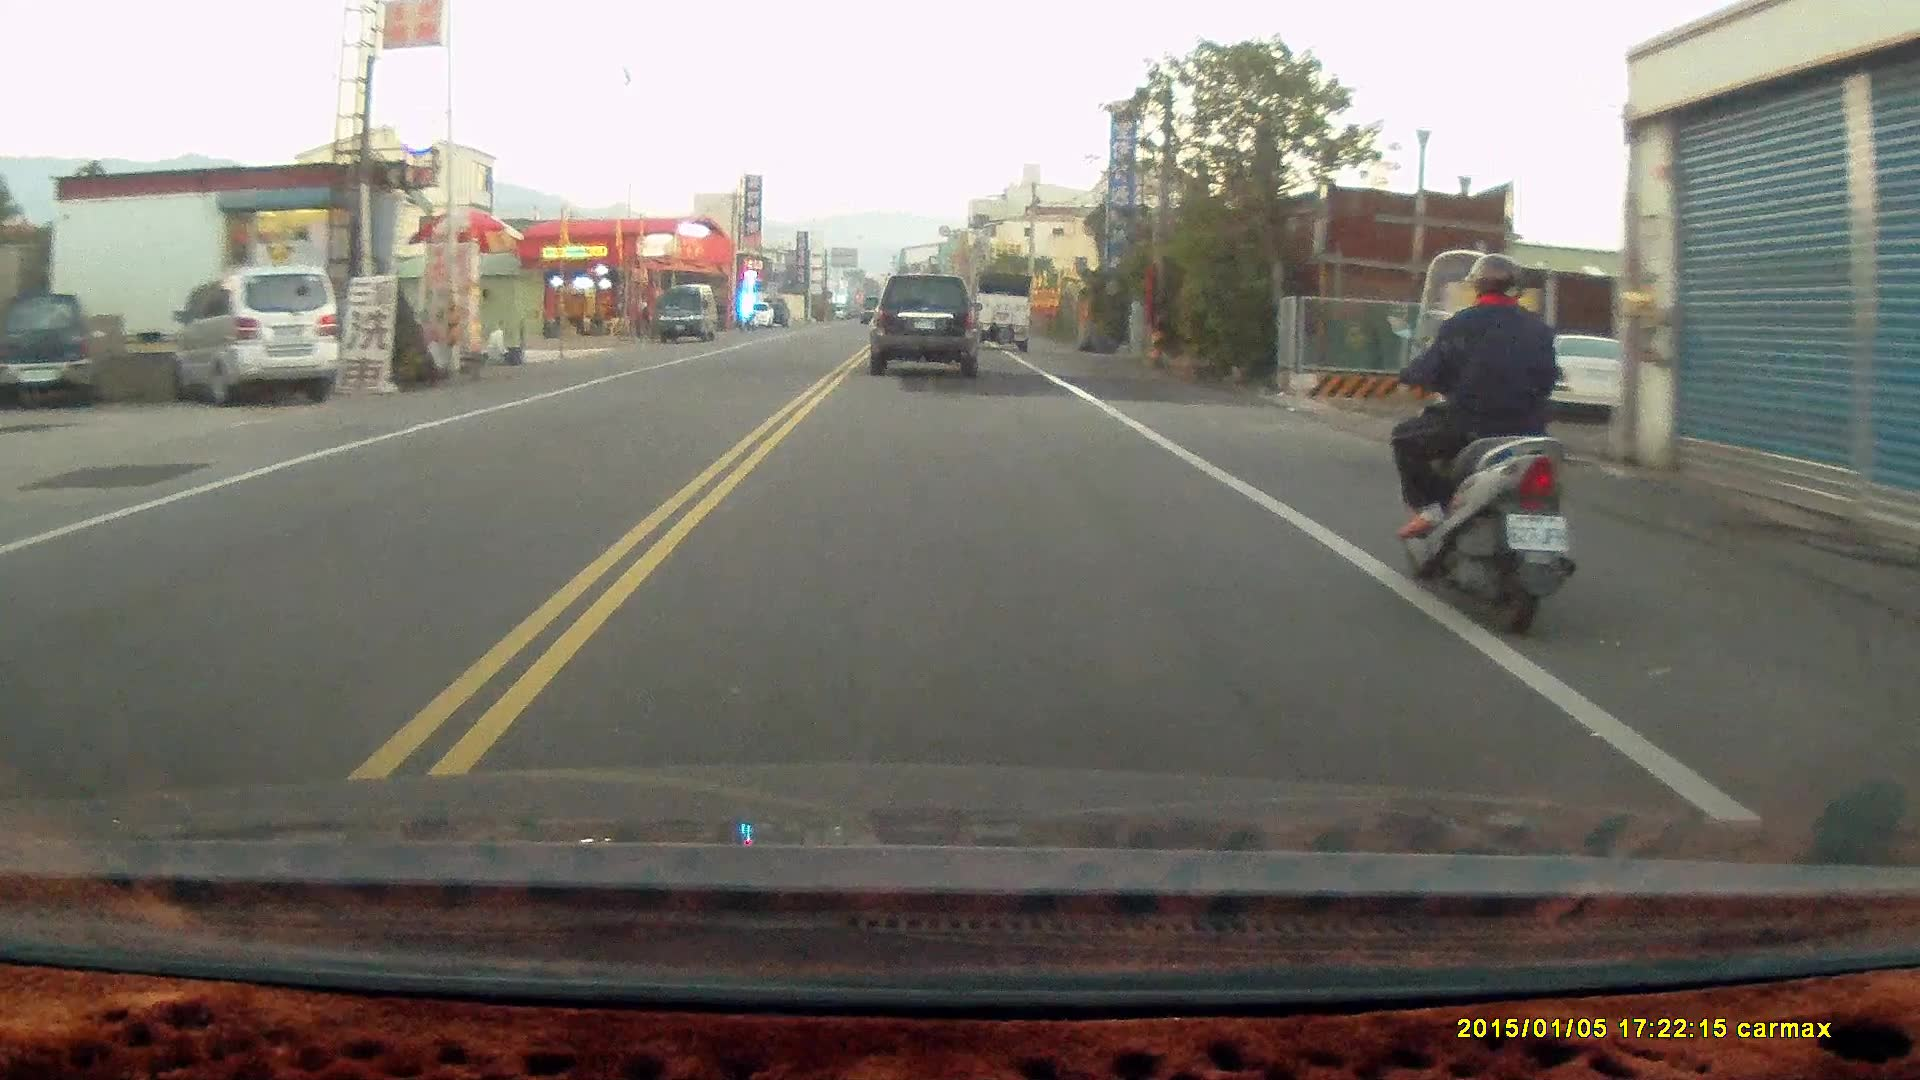rider: (1384, 250, 1575, 643)
vehicle: (174, 265, 344, 411), (871, 273, 981, 378), (3, 296, 99, 410), (972, 272, 1034, 352), (658, 285, 718, 346)
